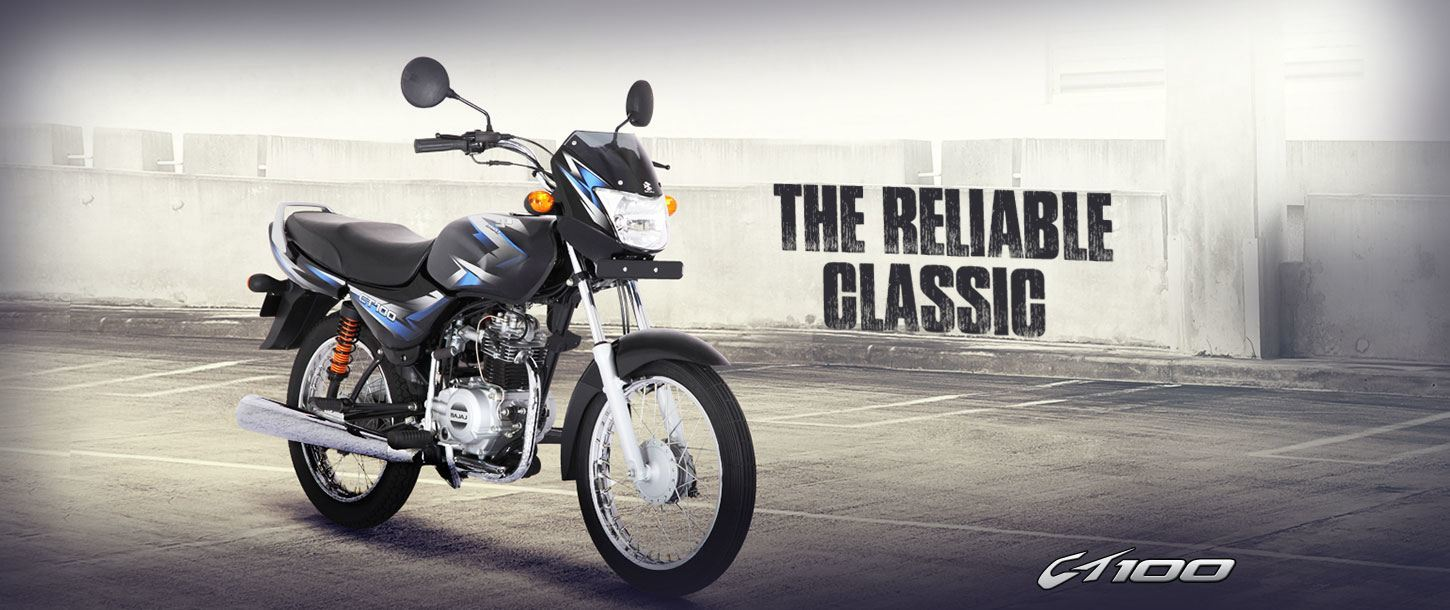motorbike: (207, 96, 778, 602)
